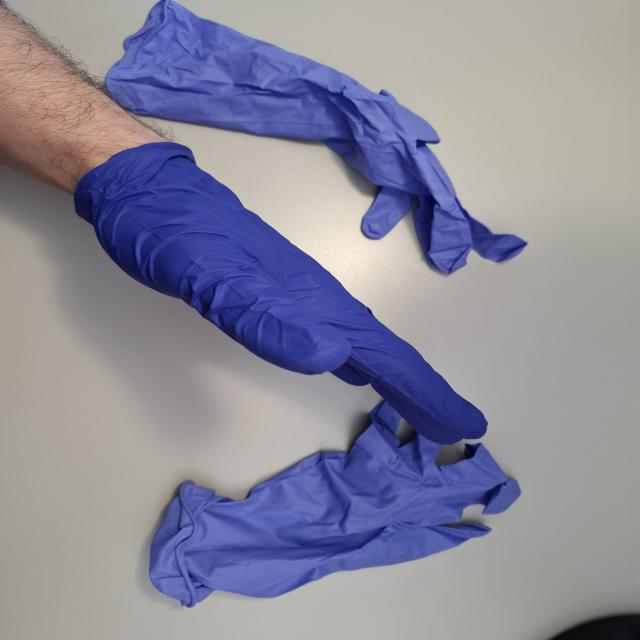glove_on: (65, 135, 494, 449)
